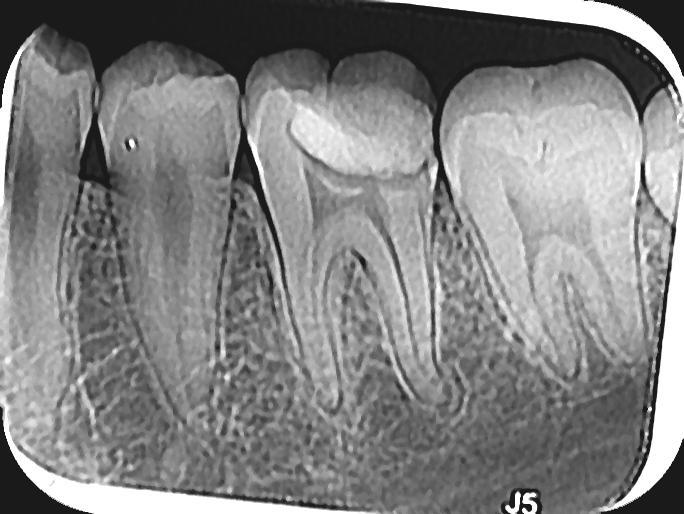individual-tooth-8tto: (238, 48, 444, 409), (426, 56, 644, 383), (86, 41, 242, 438), (0, 25, 104, 421)
